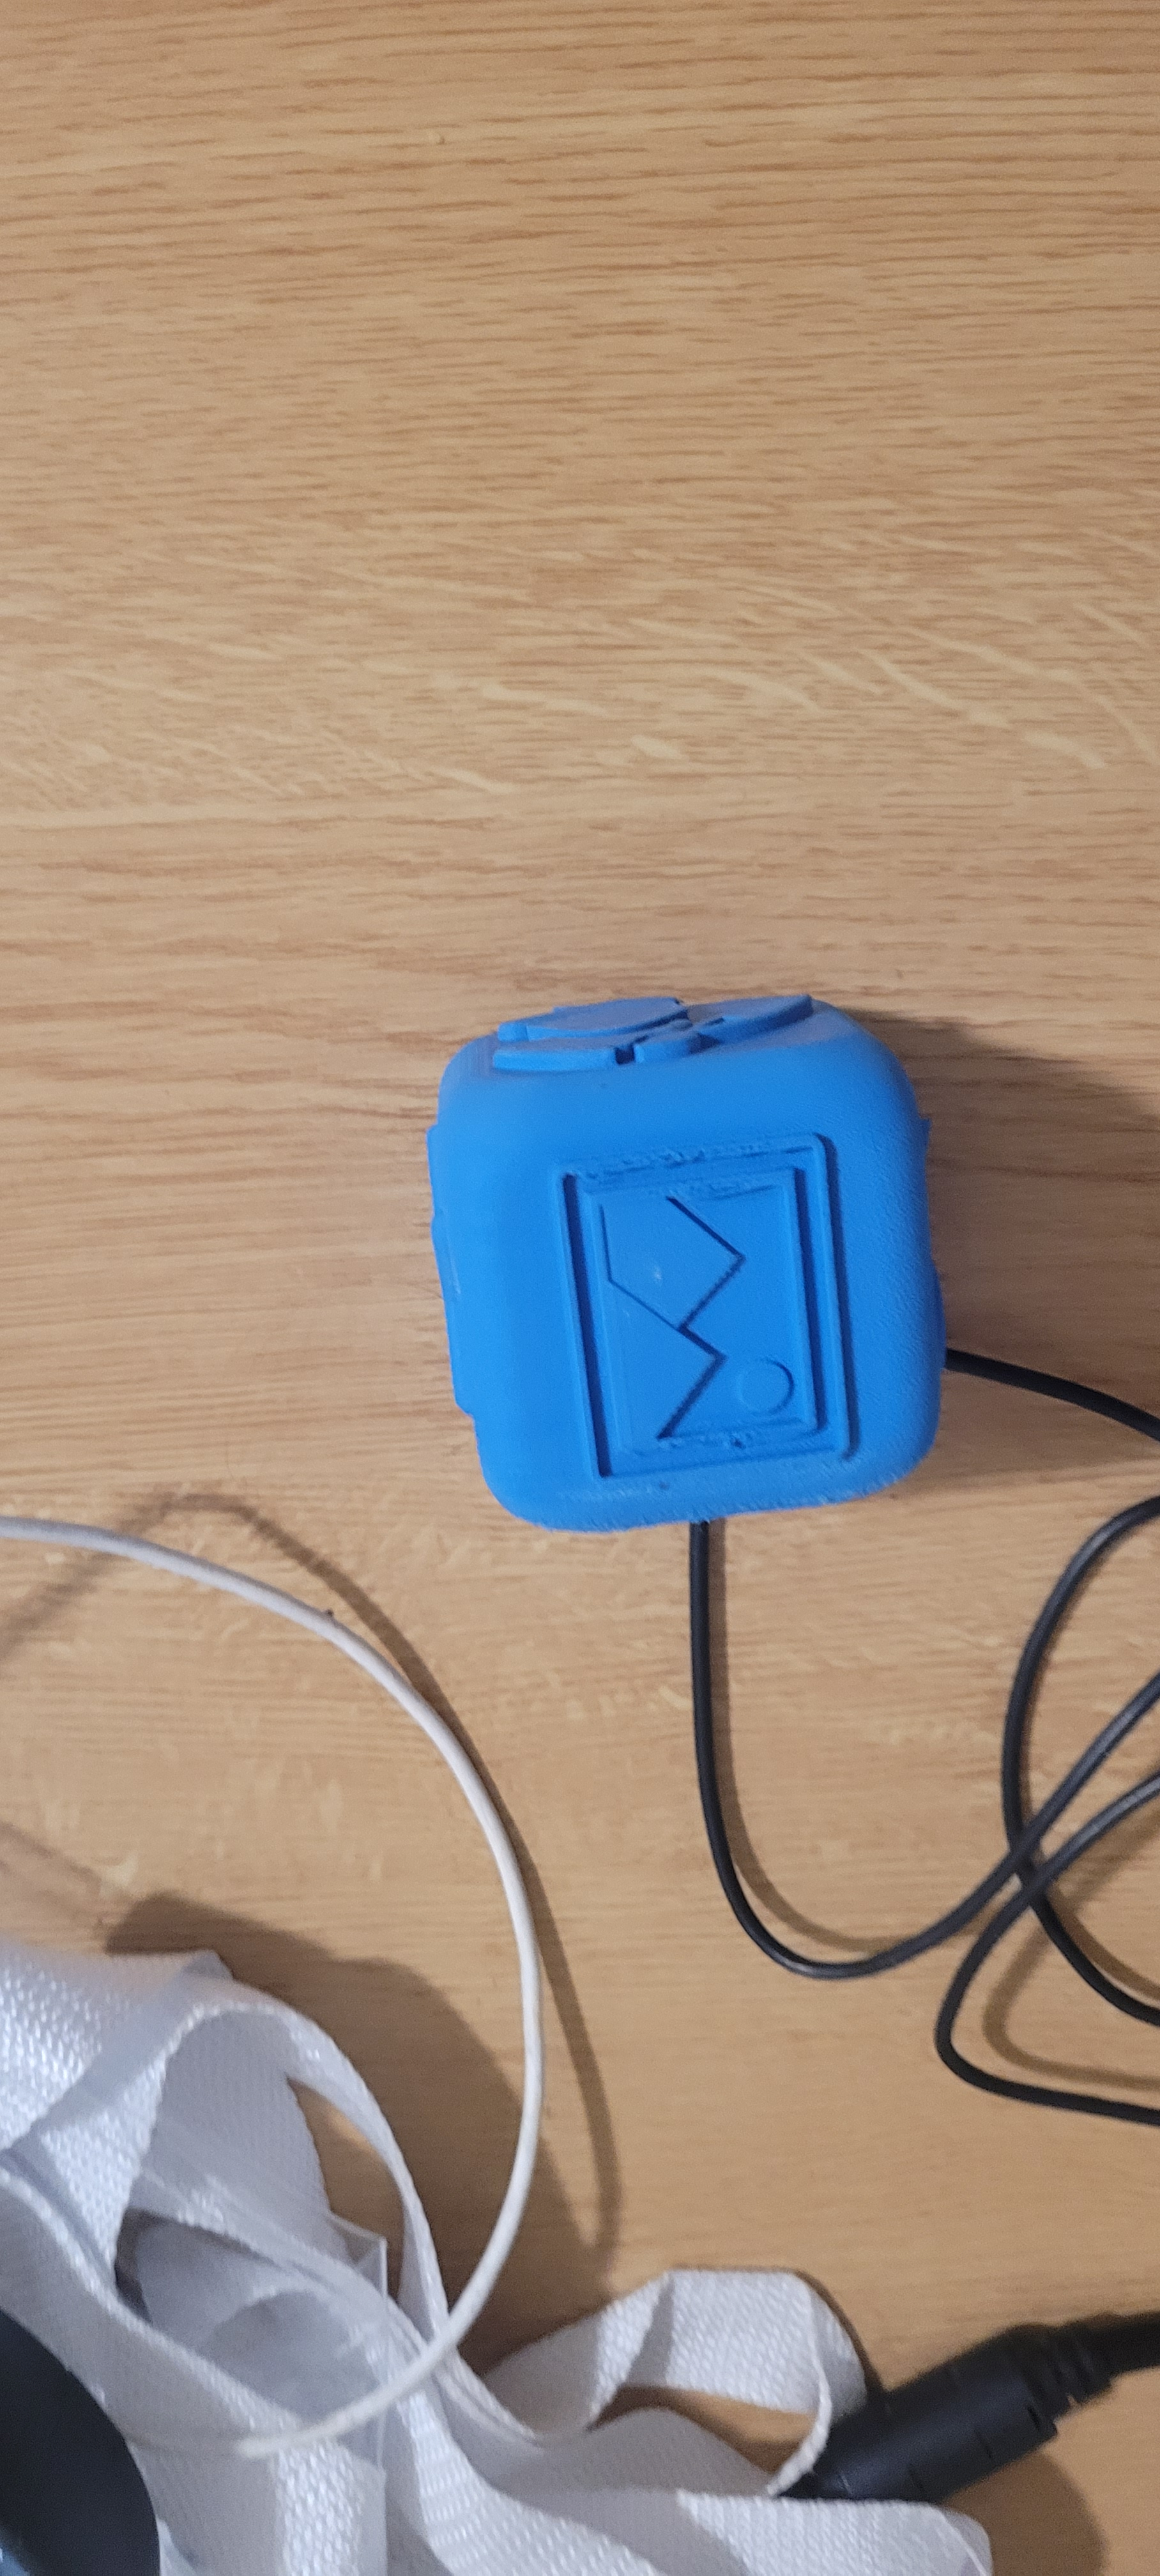Story: (529, 1112, 871, 1526)
